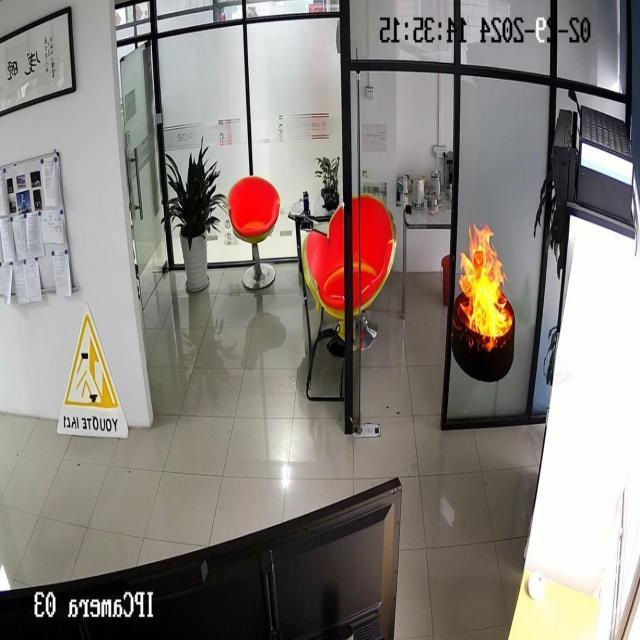smoke: (460, 217, 510, 342)
